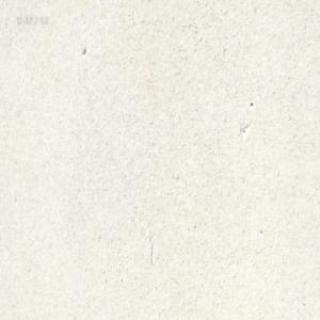Wrenchtrack_idkeyframe: (155, 0, 161, 4)
